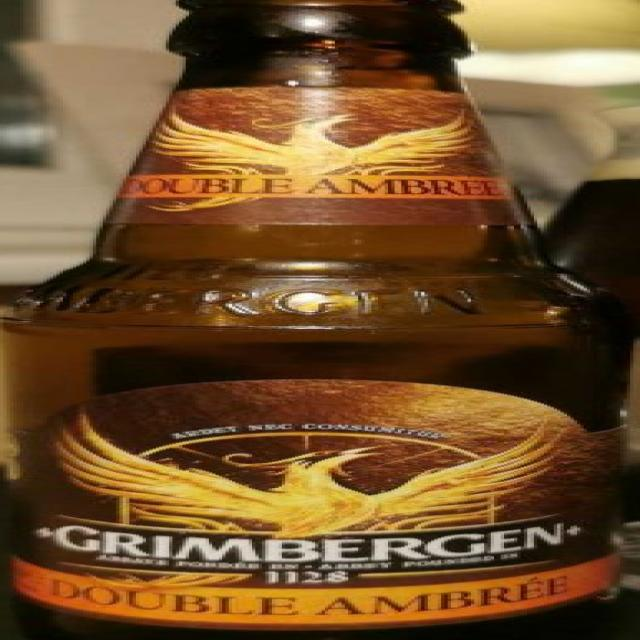Grimbergen Double Ambree: (3, 0, 640, 640)
